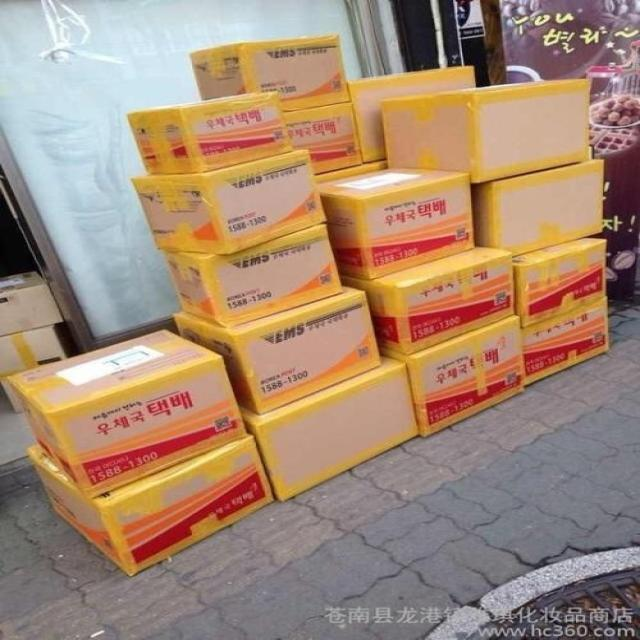box: (4, 329, 248, 501), (28, 436, 275, 579), (170, 284, 383, 417), (241, 356, 421, 504), (379, 77, 590, 186), (129, 148, 329, 255), (159, 223, 346, 327), (317, 166, 476, 281), (365, 247, 517, 356), (403, 314, 527, 440), (122, 91, 293, 173), (471, 159, 605, 257), (191, 32, 351, 114), (348, 65, 477, 164), (516, 238, 607, 330), (525, 299, 612, 387), (0, 324, 68, 416), (282, 101, 362, 175), (0, 270, 64, 337)
